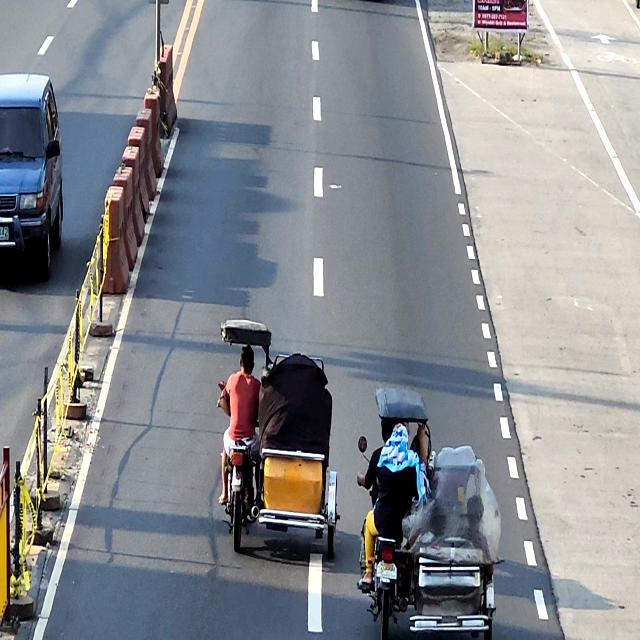Car: (0, 74, 63, 279)
License-Plate: (376, 562, 397, 580), (0, 226, 9, 240)
Tricycle: (358, 387, 496, 640), (220, 319, 340, 561)
